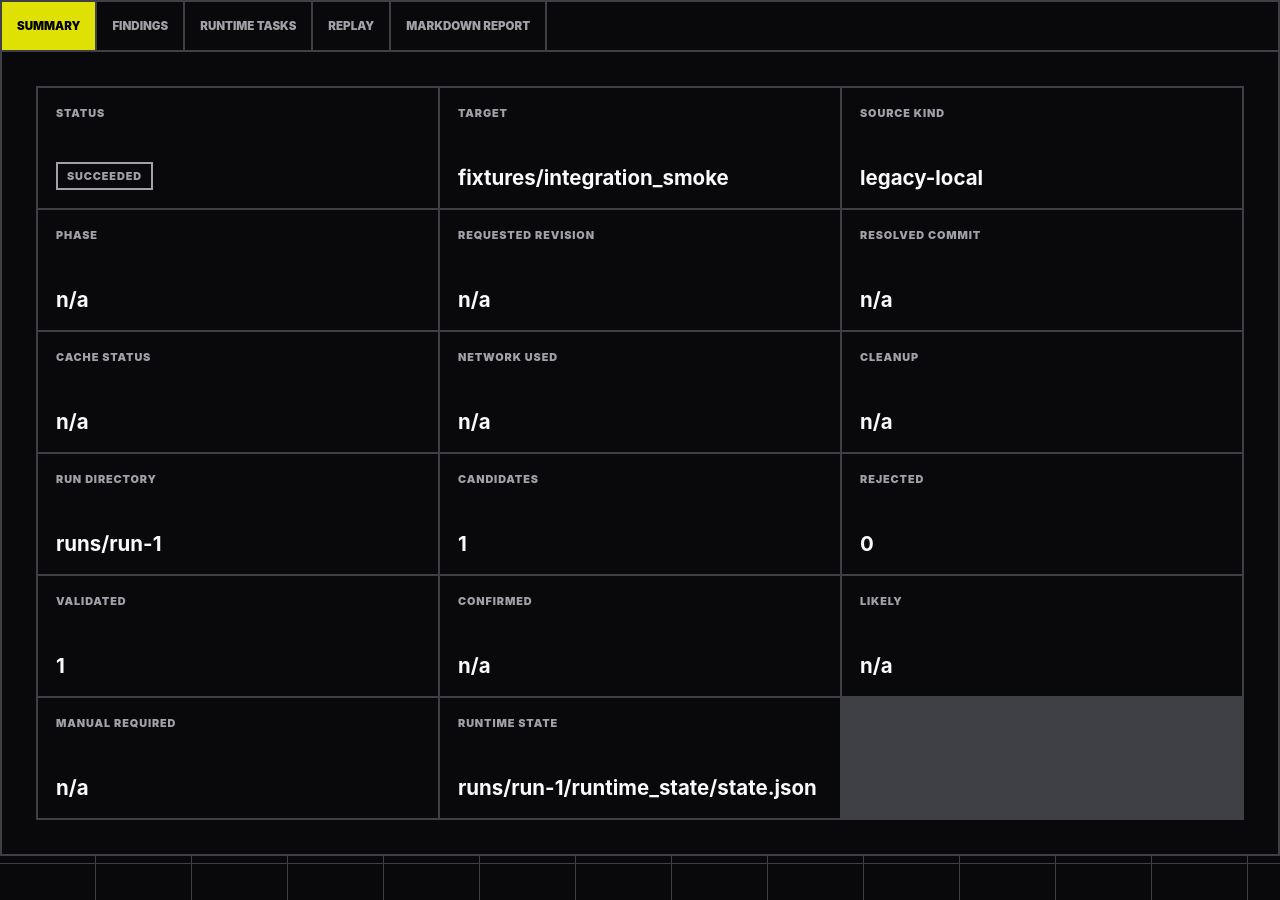
Test: RunDetailTabs › shows unavailable states when artifacts are missing
The image size is (1280, 900).
Click the tab "Runtime Tasks". click: [249, 26]
box: [185,2,313,50]
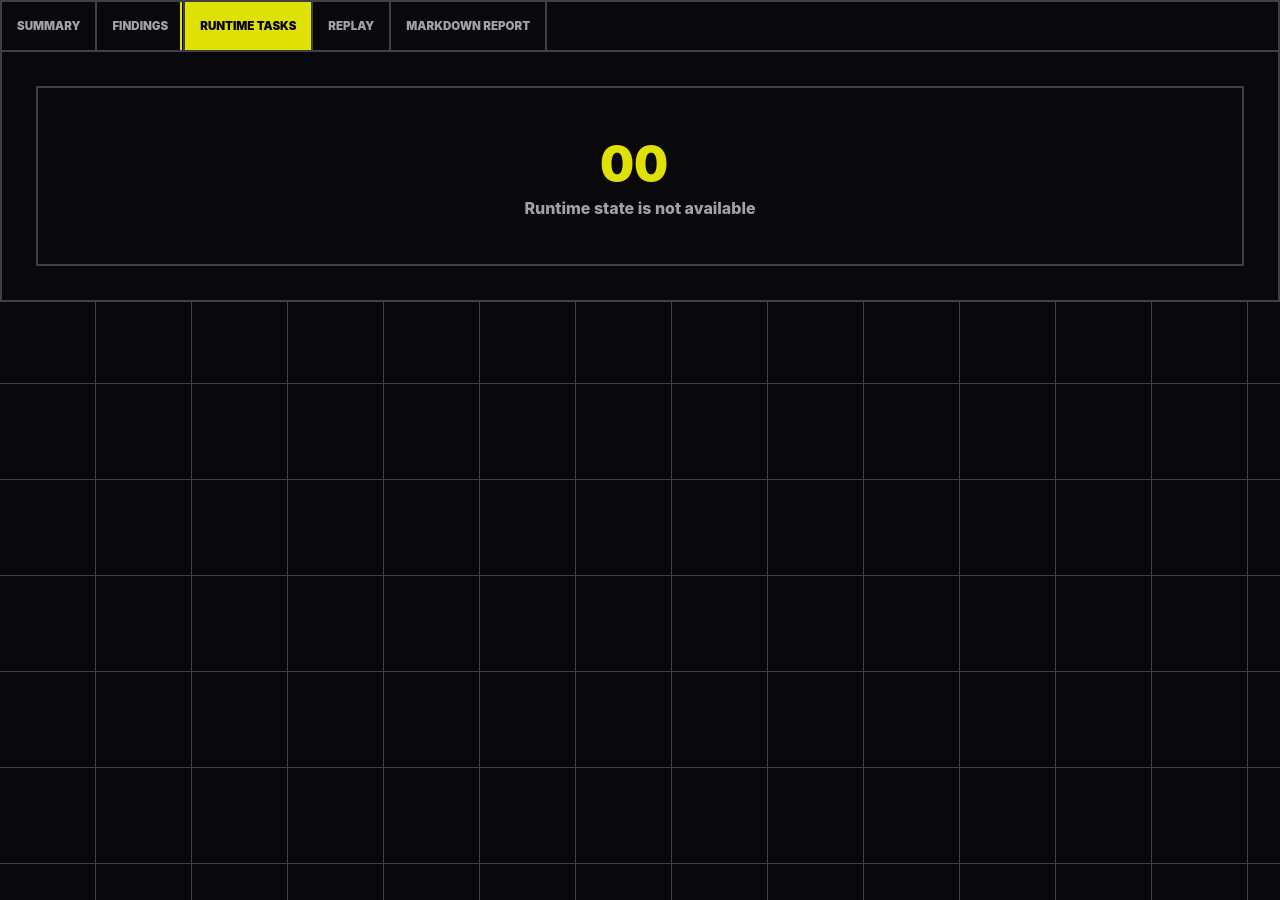
Check: the text "Runtime state is not available" is shown, box [36,86,1244,266]
Click the tab "Markdown Report". click: [469, 26]
box: [391,2,547,50]
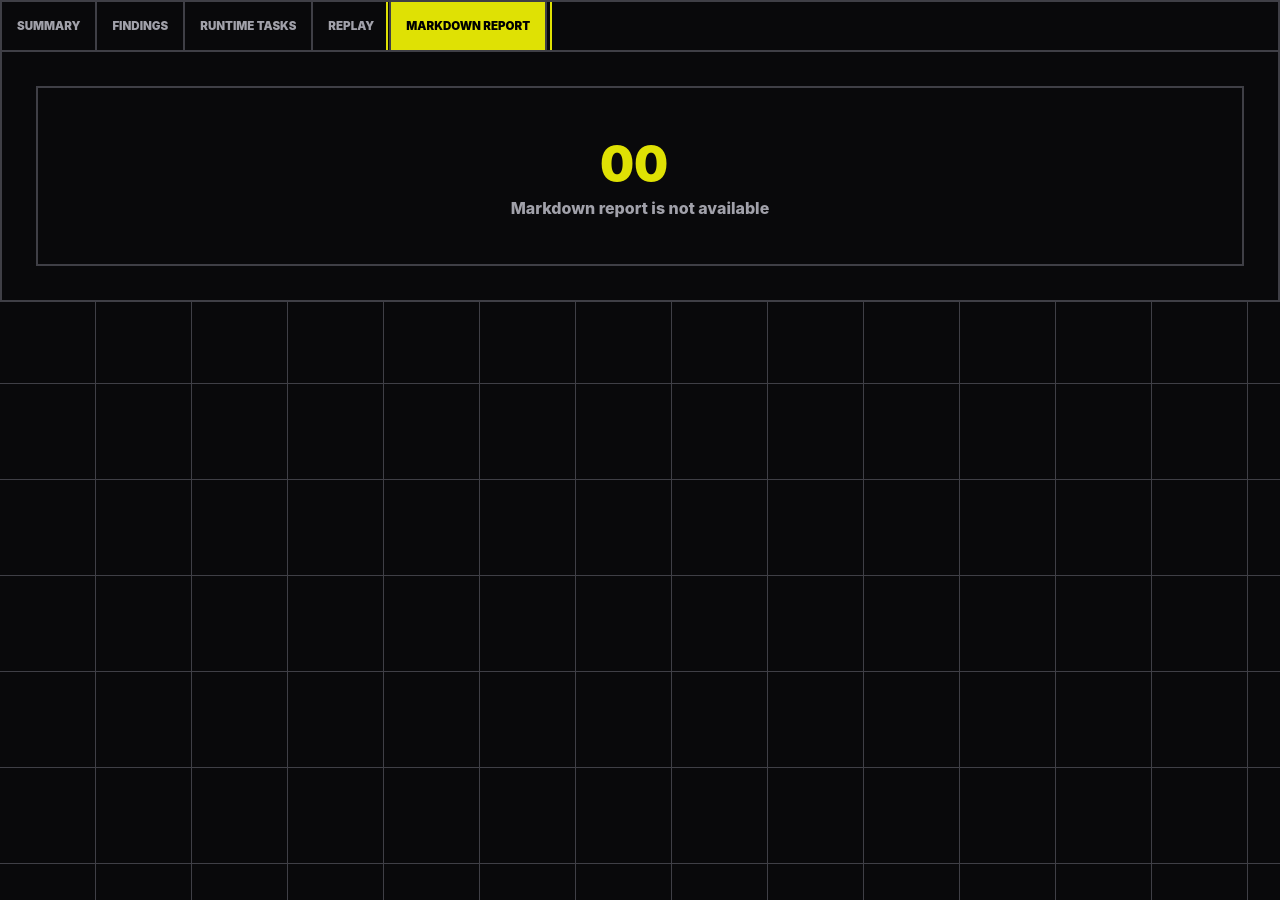
Check: the text "Markdown report is not available" is shown, box [36,86,1244,266]
